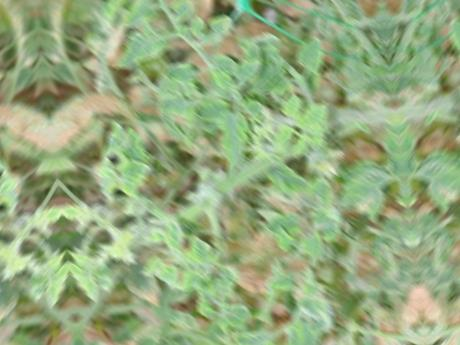Tomato leaf yellow virus: (187, 217, 219, 276), (158, 210, 188, 258), (296, 97, 334, 133), (113, 159, 160, 186), (272, 110, 301, 152)
